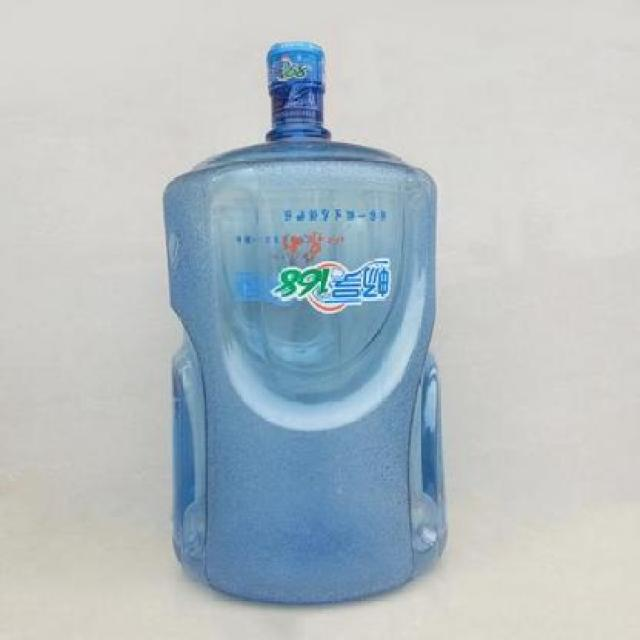coolerbottle: (160, 34, 452, 612)
